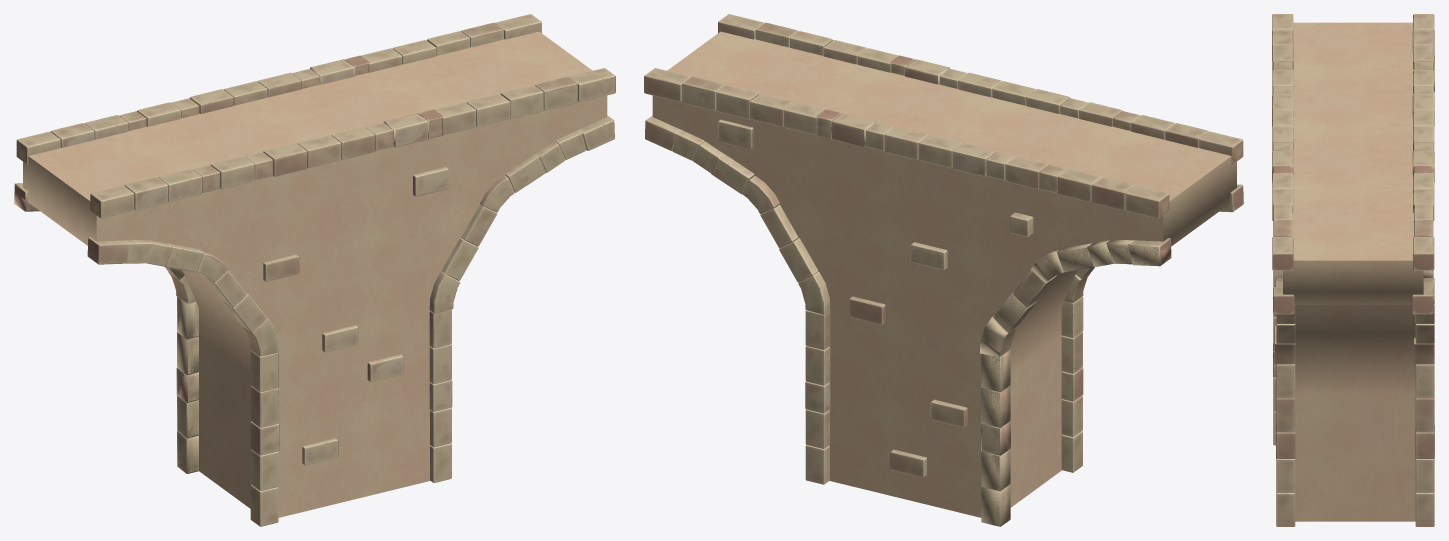
Rendered from bridge.fbx.
The picture shows the model from 3 angles, left to right: view 1: azimuth 30°, elevation 25°; view 2: azimuth 150°, elevation 25°; view 3: azimuth 270°, elevation 25°; orthographic projection. The views are drawn at different scales.
Parts seen in each view (by area): view 1: bridge_LOD0; view 2: bridge_LOD0; view 3: bridge_LOD0.
Part boxes in pixels (x1,y1,x2,y2): bridge_LOD0: (14, 14, 615, 526); bridge_LOD0: (644, 14, 1243, 526); bridge_LOD0: (1272, 14, 1434, 526).
Size of the model in its own units: 12.15 by 8.23 by 3.47.
